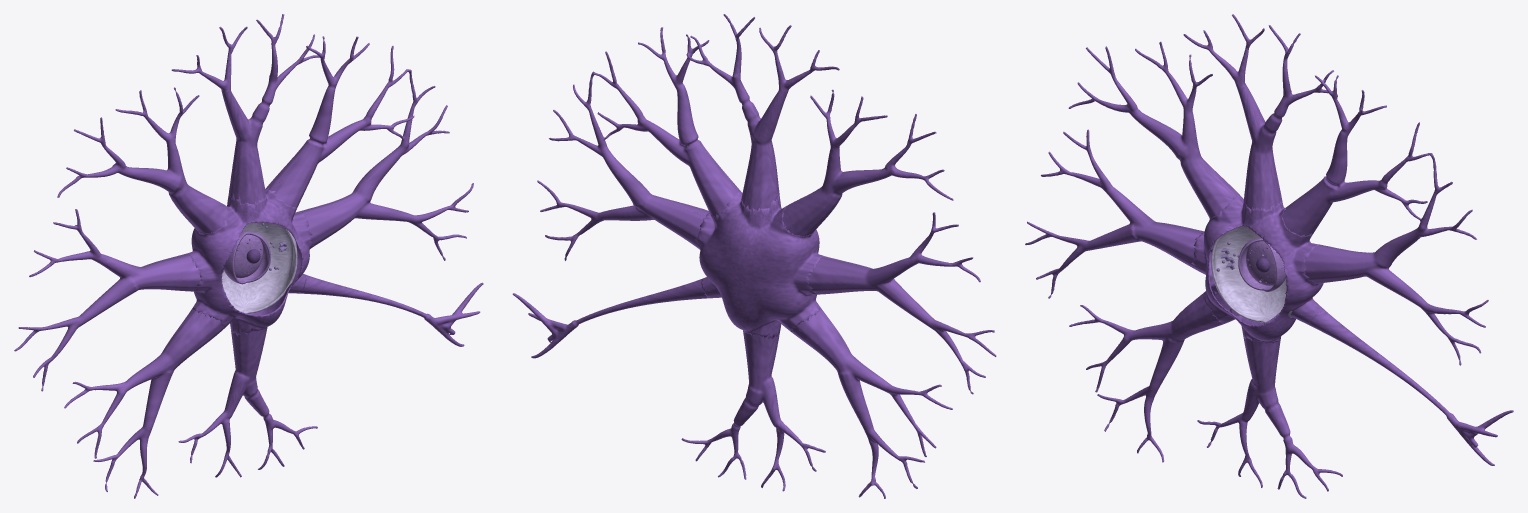
Rendered from neuronio-cutaway.glb.
3 views of the same model, side by side, from view 1: azimuth 30°, elevation 25°; view 2: azimuth 150°, elevation 25°; view 3: azimuth 330°, elevation 25° (orthographic). The views are drawn at different scales.
Parts seen in each view (by area): view 1: dendrites_mesh, membrane_mesh, cytoplasm_mesh, axon_mesh, nucleus_mesh; view 2: dendrites_mesh, membrane_mesh, axon_mesh; view 3: dendrites_mesh, membrane_mesh, cytoplasm_mesh, axon_mesh, nucleus_mesh.
Part boxes in pixels (x1,y1,x2,y2): dendrites_mesh: [14, 14, 473, 498]; membrane_mesh: [185, 187, 314, 336]; cytoplasm_mesh: [222, 222, 297, 313]; axon_mesh: [298, 274, 483, 346]; nucleus_mesh: [223, 231, 270, 284]; dendrites_mesh: [537, 14, 996, 498]; membrane_mesh: [695, 190, 825, 339]; axon_mesh: [512, 279, 709, 358]; dendrites_mesh: [1025, 14, 1488, 498]; membrane_mesh: [1191, 195, 1323, 343]; cytoplasm_mesh: [1211, 226, 1292, 322]; axon_mesh: [1310, 309, 1513, 465]; nucleus_mesh: [1238, 237, 1286, 291].
Bounding box in the file's own units: 4.81 × 4.47 × 0.6069.
9 materials, 9 textured.
